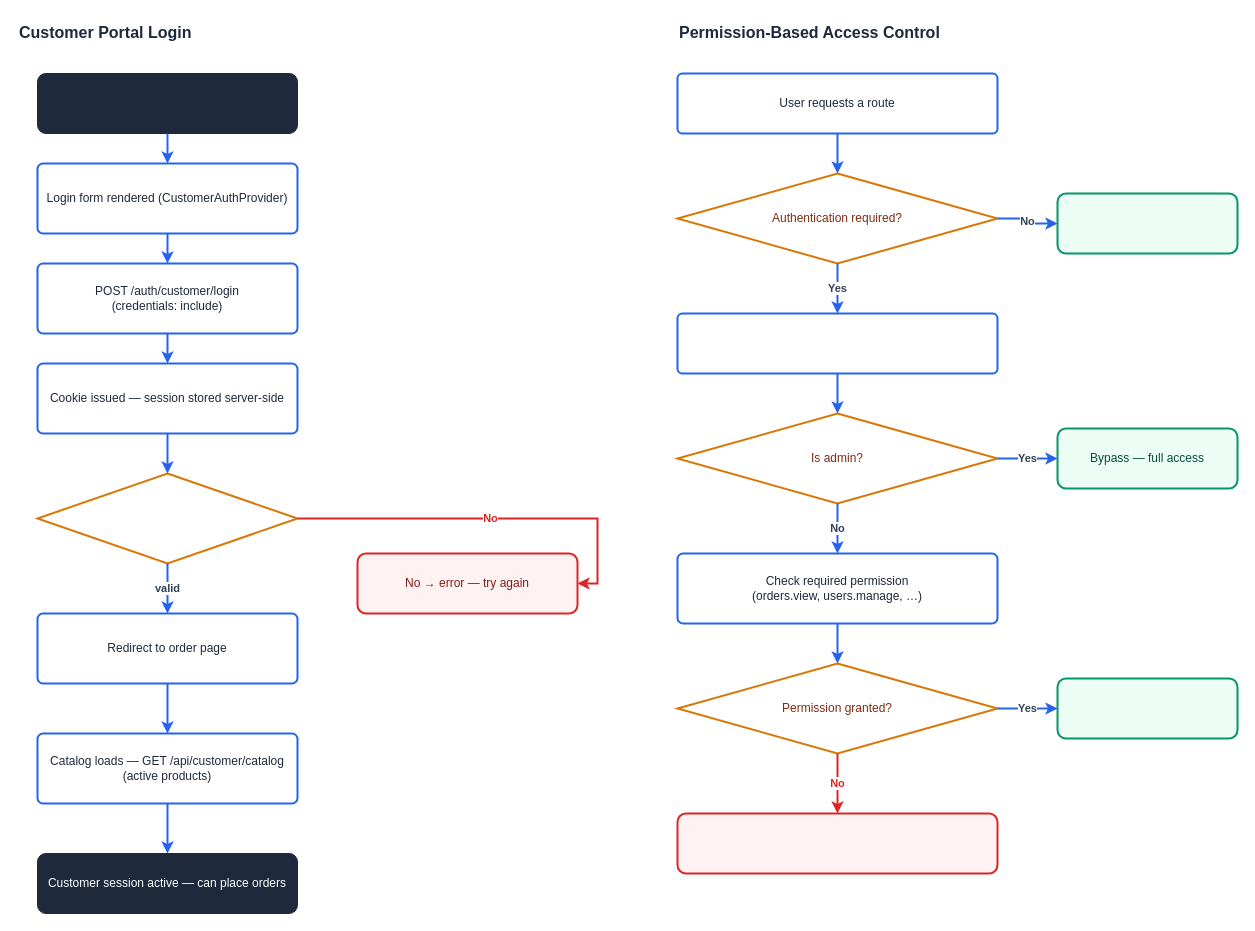
The diagram is 1255 pixels wide and 931 high, and some of its shapes have lost their labels. The box of each missing label's shape, as (x1, y1, x2, y2) in pixels:
403 — access denied: (676, 812, 998, 874)
Check /auth/me → AuthContext state: (676, 312, 998, 374)
Public route — render: (1056, 192, 1238, 254)
Render + guard content: (1056, 677, 1238, 739)
Start — /order/login: (36, 72, 298, 134)
Valid?: (36, 472, 298, 564)
